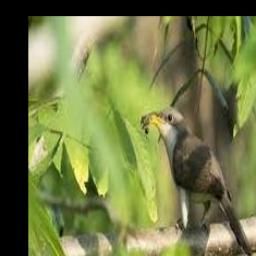Cuckoo: (143, 108, 253, 256)
